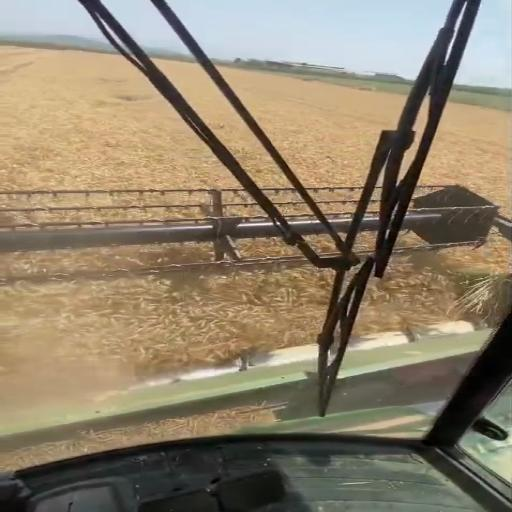bugday: (0, 265, 331, 402), (0, 49, 238, 189), (227, 69, 403, 186), (159, 61, 288, 186), (423, 104, 509, 205), (356, 253, 452, 333), (0, 243, 212, 272)
